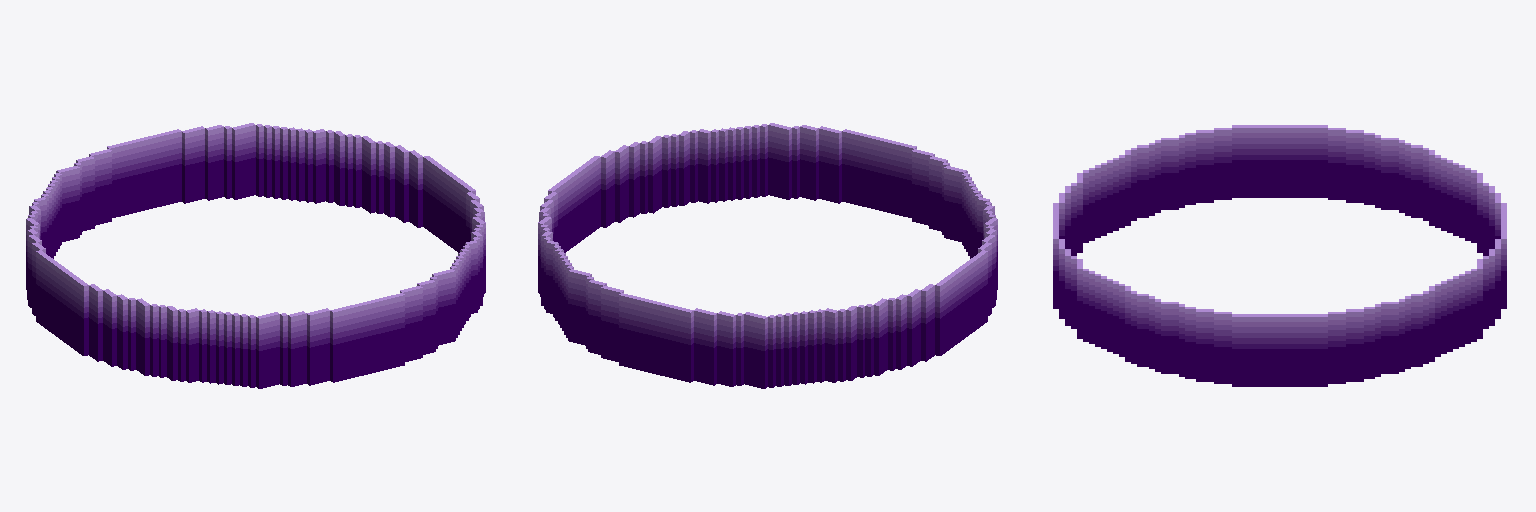
3 views of the same model, side by side, from view 1: azimuth 30°, elevation 25°; view 2: azimuth 150°, elevation 25°; view 3: azimuth 270°, elevation 25° (orthographic).
Visible parts, largest first — view 1: object 1; view 2: object 1; view 3: object 1.
Part boxes in pixels (x1,y1,x2,y2): object 1: (26, 123, 485, 388); object 1: (538, 123, 997, 388); object 1: (1053, 125, 1506, 386).
Bounding box in the file's own units: 7.6 × 1.3 × 7.6.
Materials: 1 (1 with a texture image).